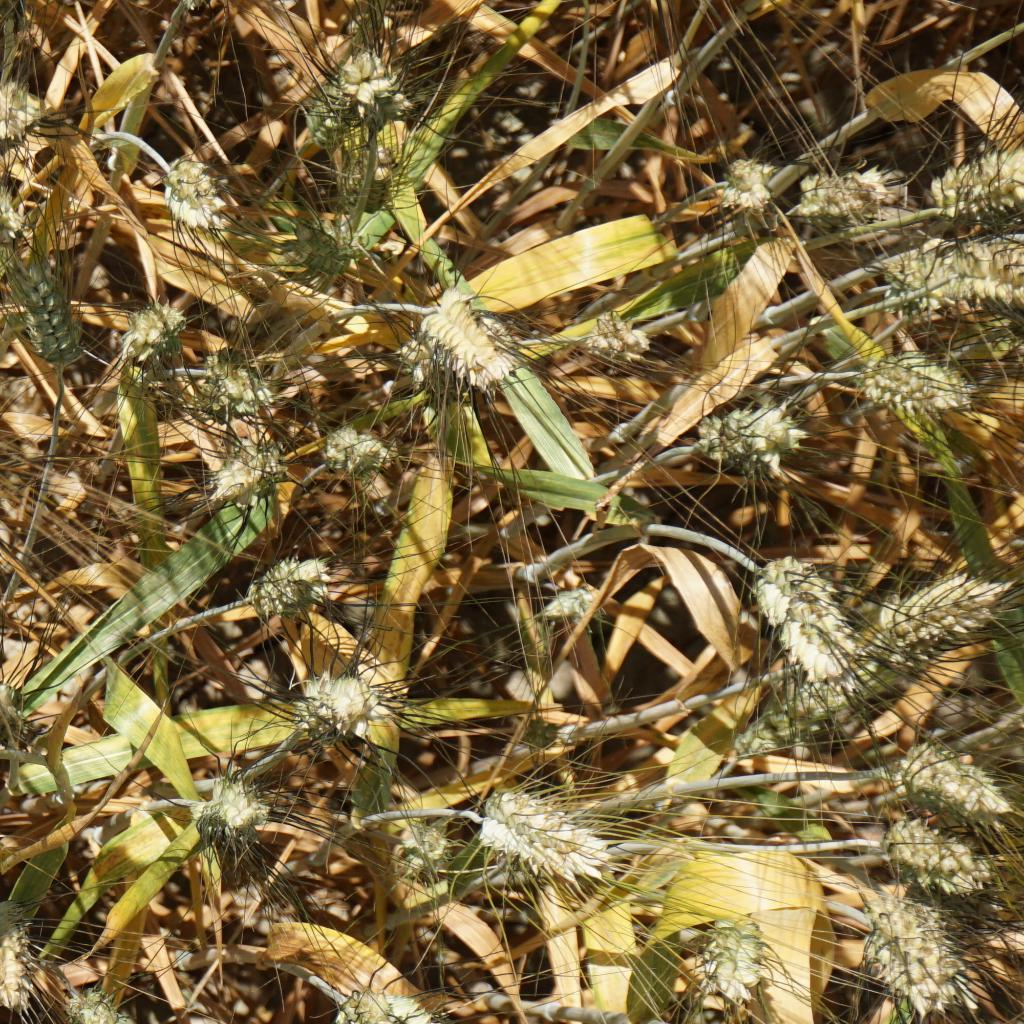0-0: (757, 556, 860, 675), (481, 800, 619, 886), (890, 737, 1019, 820), (871, 897, 954, 1024), (745, 671, 871, 754), (286, 663, 404, 751), (416, 295, 523, 391), (886, 576, 999, 652), (10, 261, 82, 370), (699, 394, 797, 471), (146, 146, 242, 222), (696, 919, 769, 1007), (306, 412, 387, 486), (894, 342, 978, 413), (197, 350, 275, 425), (934, 150, 1024, 214), (282, 197, 366, 265), (884, 820, 965, 890), (325, 982, 459, 1024), (245, 552, 331, 617), (586, 309, 665, 379), (215, 442, 289, 512), (0, 895, 44, 1011), (793, 161, 879, 220), (343, 50, 415, 119), (943, 243, 1024, 304), (119, 293, 182, 368), (716, 158, 785, 224), (869, 355, 935, 423), (302, 79, 366, 140), (200, 780, 269, 834), (397, 819, 458, 880), (393, 333, 452, 396), (62, 984, 148, 1024), (888, 251, 948, 304), (339, 150, 401, 196), (0, 673, 38, 741), (536, 586, 614, 616), (0, 89, 40, 147), (0, 178, 22, 238)
